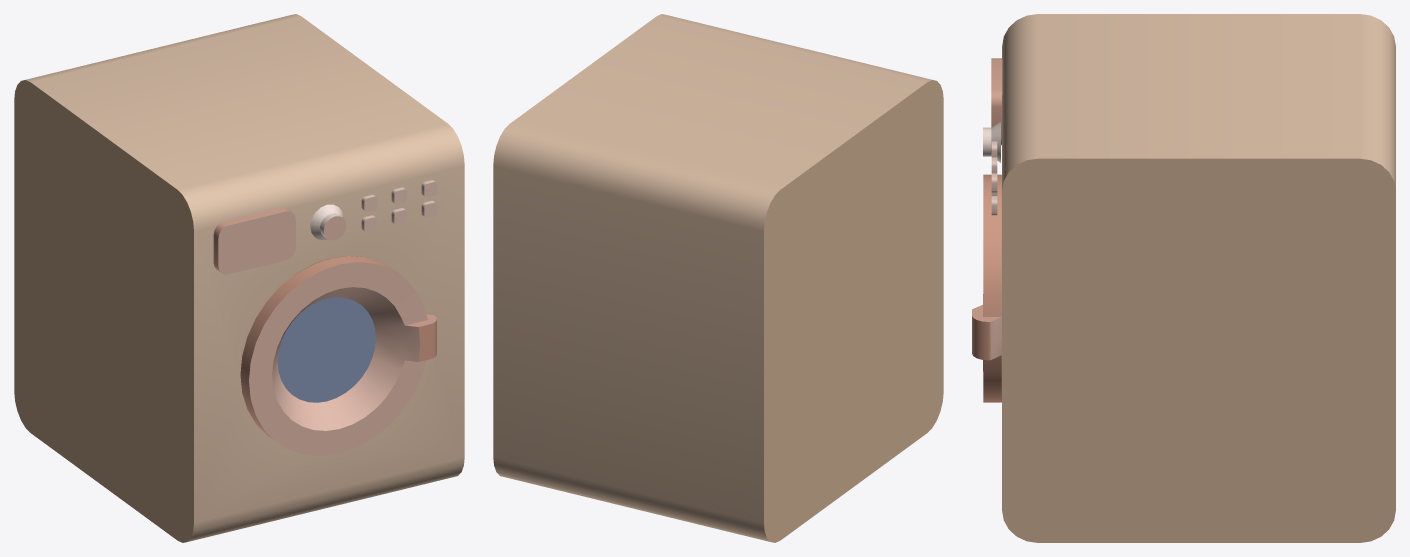
The model's file is Washer.fbx.
3 views of the same model, side by side, from view 1: azimuth 30°, elevation 25°; view 2: azimuth 150°, elevation 25°; view 3: azimuth 270°, elevation 25° (orthographic). The views are drawn at different scales.
Visible parts, largest first — view 1: Cube.001, Cylinder; view 2: Cube.001; view 3: Cube.001, Cylinder.
Part boxes in pixels (bbox=[...]): Cube.001: bbox=[14, 14, 464, 542]; Cylinder: bbox=[240, 256, 436, 455]; Cube.001: bbox=[493, 14, 943, 542]; Cube.001: bbox=[983, 14, 1395, 542]; Cylinder: bbox=[972, 174, 1001, 402].
Size of the model in its own units: 1.43 by 1.78 by 1.78.
